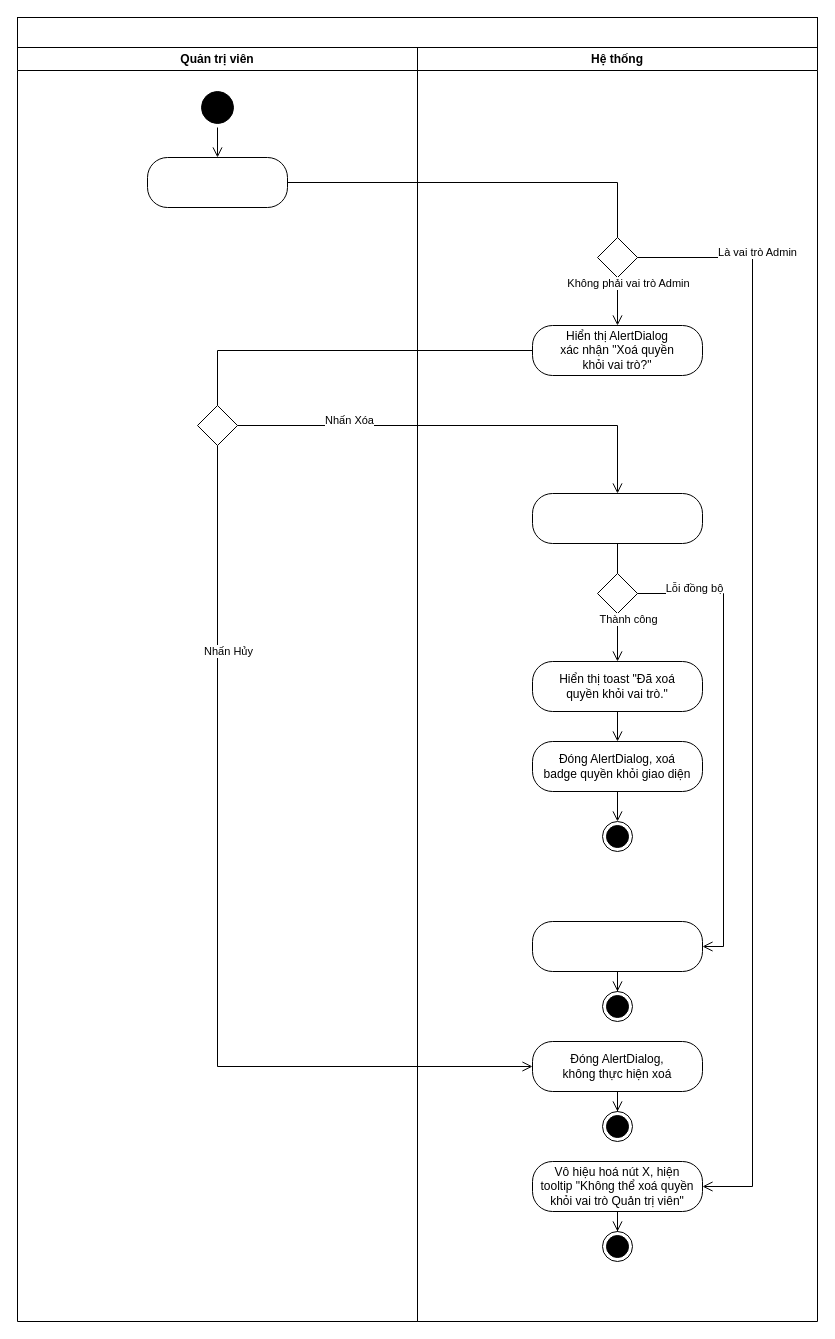
This 835x1339 diagram has some shape labels left out. The centre of each missing label's shape, as x and y in pixels:
Gửi yêu cầu đồng bộ danh sách quyền (loại bỏ quyền vừa chọn): (617,518)
Hiển thị toast lỗi tương ứng. Đóng AlertDialog: (617,946)
Nhấn nút X trên badge quyền: (217,182)
XOÁ QUYỀN KHỎI VAI TRÒ: (417,32)
